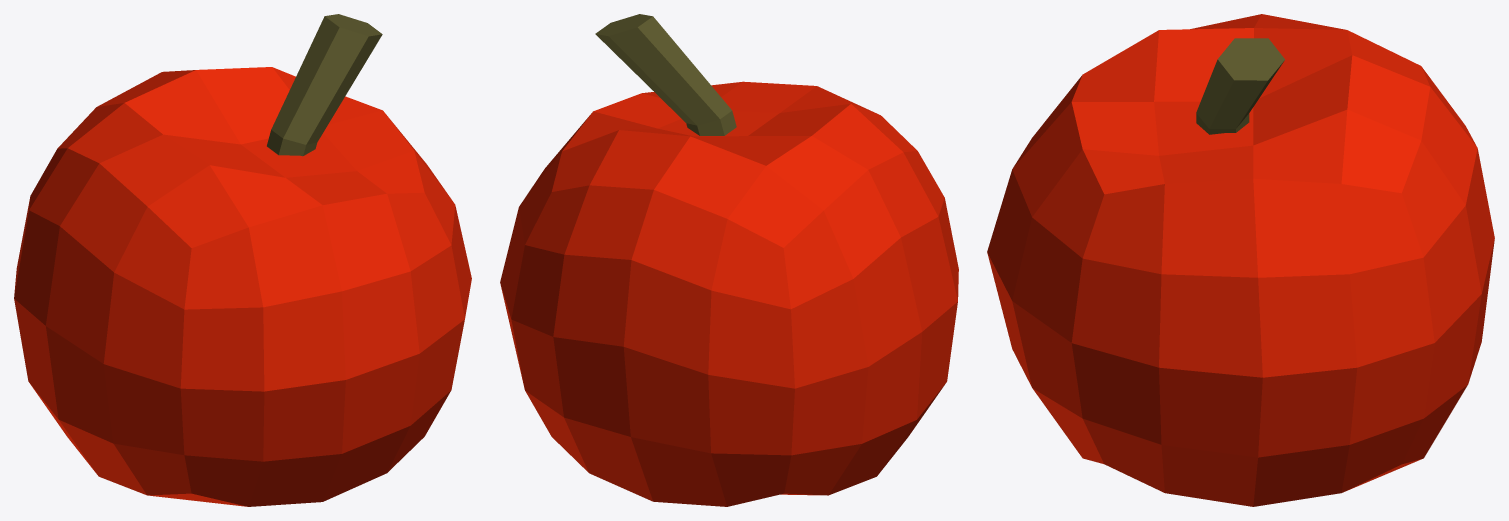
Rendered from Apple.fbx.
The picture shows the model from 3 angles, left to right: view 1: azimuth 30°, elevation 25°; view 2: azimuth 150°, elevation 25°; view 3: azimuth 270°, elevation 25°; orthographic projection. The views are drawn at different scales.
Parts seen in each view (by area): view 1: Cylinder; view 2: Cylinder; view 3: Cylinder.
Boxes of the visible parts, bbox=[...] form: Cylinder: bbox=[14, 14, 471, 506]; Cylinder: bbox=[500, 14, 958, 506]; Cylinder: bbox=[987, 14, 1494, 506].
Bounding box in the file's own units: 171 × 165 × 171.
